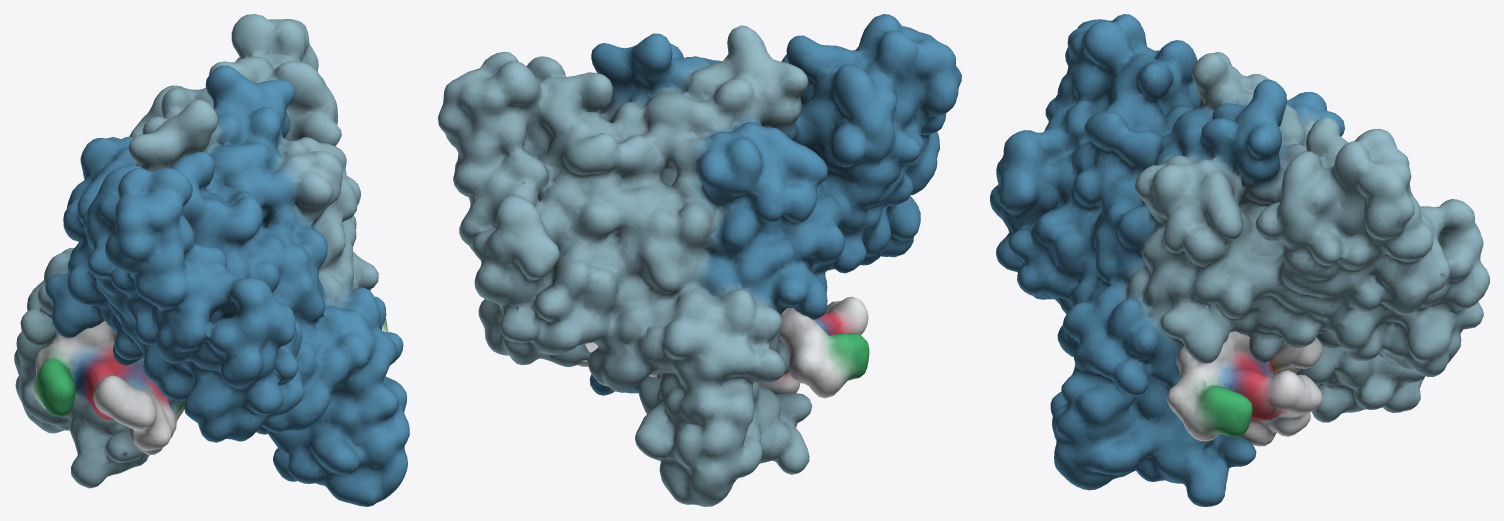
The model's file is 1ERI.glb.
3 renders of one model, left to right at view 1: azimuth 30°, elevation 25°; view 2: azimuth 150°, elevation 25°; view 3: azimuth 270°, elevation 25°, orthographic. The views are drawn at different scales.
Parts seen in each view (by area): view 1: 1ERI_protein, 1ERI_dna; view 2: 1ERI_protein, 1ERI_dna; view 3: 1ERI_protein, 1ERI_dna.
Boxes of the visible parts, bbox=[...] form: 1ERI_protein: bbox=[14, 14, 409, 506]; 1ERI_dna: bbox=[33, 318, 388, 455]; 1ERI_protein: bbox=[438, 14, 961, 506]; 1ERI_dna: bbox=[577, 296, 869, 398]; 1ERI_protein: bbox=[990, 14, 1489, 506]; 1ERI_dna: bbox=[1166, 331, 1323, 446].
Size of the model in its own units: 6.22 by 6.55 by 7.69.
